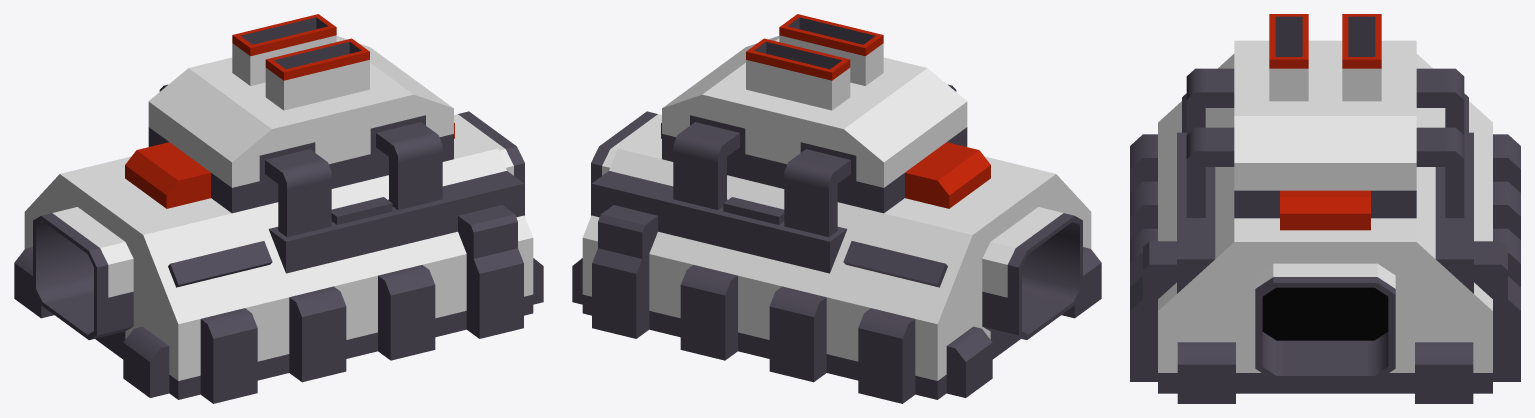
Rendered from Smelter_T1.fbx.
The picture shows the model from 3 angles, left to right: view 1: azimuth 30°, elevation 25°; view 2: azimuth 150°, elevation 25°; view 3: azimuth 270°, elevation 25°; orthographic projection. The views are drawn at different scales.
Visible parts, largest first — view 1: Smelter; view 2: Smelter; view 3: Smelter.
Part boxes in pixels (x1,y1,x2,y2): Smelter: (14, 14, 543, 403); Smelter: (572, 14, 1101, 403); Smelter: (1130, 14, 1520, 403).
Bounding box in the file's own units: 9.65 × 5.42 × 7.
